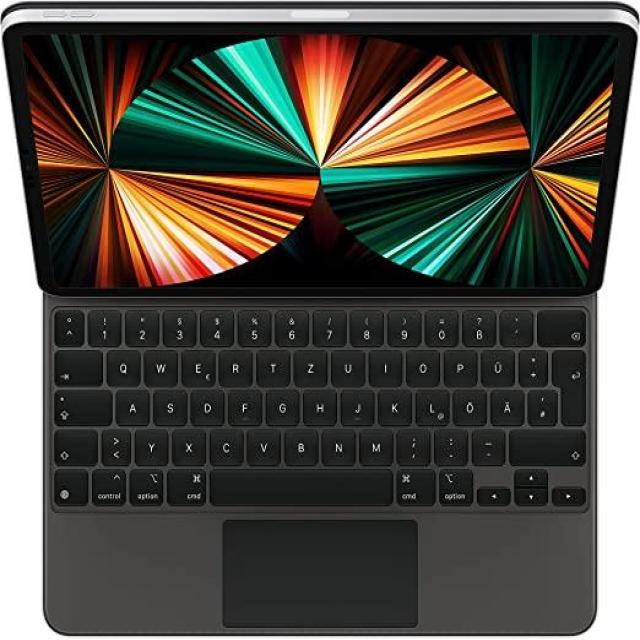0: (422, 306, 456, 343)
1: (85, 306, 119, 343)
2: (121, 306, 157, 343)
3: (159, 306, 195, 343)
4: (197, 305, 232, 343)
5: (234, 305, 270, 343)
6: (271, 306, 306, 345)
7: (310, 306, 345, 343)
8: (347, 306, 383, 343)
9: (385, 306, 419, 345)
a: (113, 385, 147, 422)
accent: (497, 305, 530, 343)
ae: (487, 385, 522, 422)
alt-left: (128, 465, 163, 505)
altgr-right: (435, 465, 471, 505)
b: (281, 424, 316, 462)
c: (206, 424, 242, 462)
caret: (50, 304, 82, 344)
comma: (393, 424, 428, 462)
d: (186, 385, 222, 423)
del: (533, 304, 585, 344)
e: (178, 345, 213, 385)
enter: (549, 344, 585, 424)
f: (224, 385, 260, 422)
g: (262, 385, 297, 422)
h: (299, 385, 335, 422)
hash: (525, 385, 554, 422)
i: (365, 345, 400, 383)
j: (337, 385, 372, 422)
k: (375, 385, 410, 422)
keyboard: (39, 287, 596, 517)
l: (412, 385, 446, 422)
less: (98, 424, 129, 462)
m: (356, 424, 391, 462)
minus: (468, 424, 503, 462)
n: (318, 424, 353, 462)
o: (402, 346, 438, 384)
oe: (449, 385, 484, 422)
p: (440, 345, 476, 383)
plus: (515, 345, 546, 383)
point: (431, 424, 466, 461)
q: (102, 345, 139, 385)
r: (216, 345, 250, 383)
s: (151, 385, 185, 422)
shift-left: (50, 425, 96, 464)
shift-lock: (50, 385, 109, 423)
shift-right: (505, 424, 584, 462)
space: (206, 464, 391, 504)
ss: (460, 306, 494, 343)
strg-left: (88, 465, 125, 505)
t: (254, 345, 288, 383)
tab: (52, 345, 100, 383)
u: (327, 345, 363, 385)
ue: (477, 345, 512, 383)
v: (243, 424, 278, 462)
w: (140, 345, 175, 385)
x: (169, 425, 204, 462)
y: (131, 425, 167, 462)
z: (290, 345, 325, 385)
